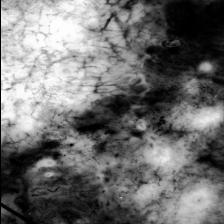Potentially Malignant Skin Tumors: (13, 81, 180, 224)
